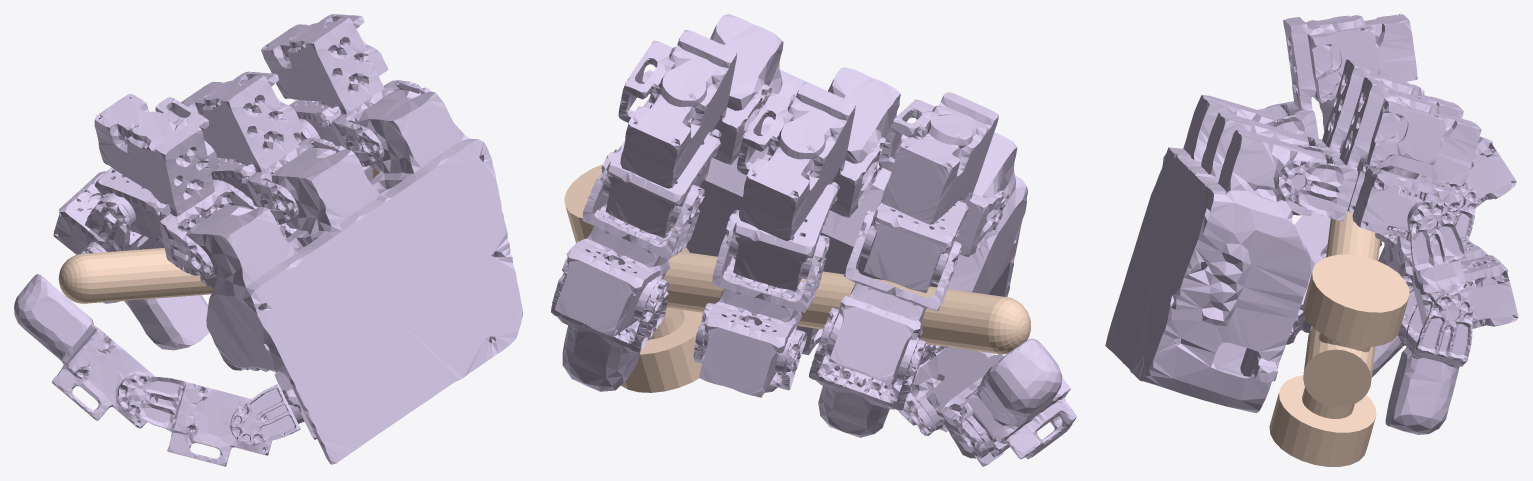
File: 235cd3bbcad773-closed.glb
3 views of the same model, side by side, from view 1: azimuth 30°, elevation 25°; view 2: azimuth 150°, elevation 25°; view 3: azimuth 270°, elevation 25° (orthographic). The views are drawn at different scales.
Visible parts, largest first — view 1: LEAP_hand, world; view 2: LEAP_hand, world; view 3: LEAP_hand, world.
Part boxes in pixels (x1,y1,x2,y2): LEAP_hand: [14, 14, 522, 466]; world: [58, 168, 379, 303]; LEAP_hand: [551, 14, 1076, 466]; world: [564, 164, 1030, 392]; LEAP_hand: [1105, 14, 1518, 434]; world: [1269, 211, 1409, 466].
Bounding box in the file's own units: 0.1989 × 0.1567 × 0.1568.
